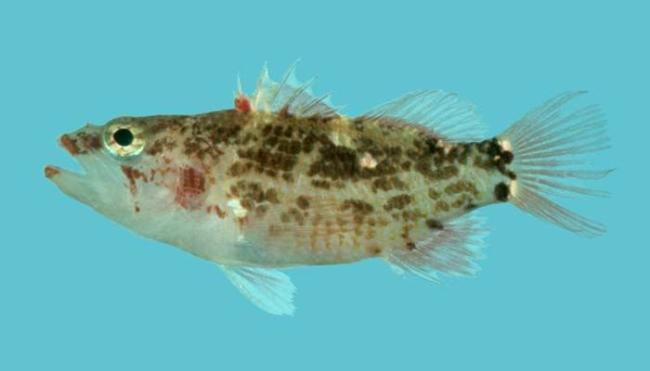fish: (43, 57, 614, 317)
